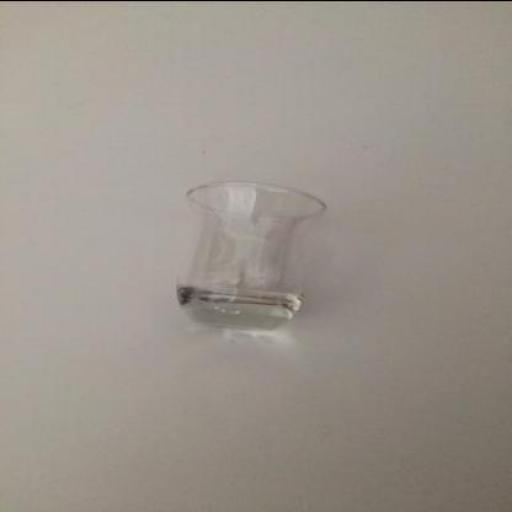glass: (176, 178, 326, 324)
